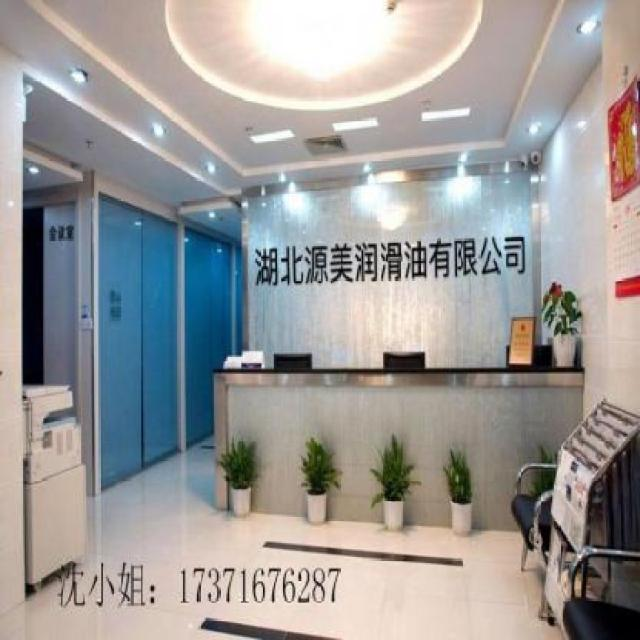frontdesk: (206, 342, 625, 538)
